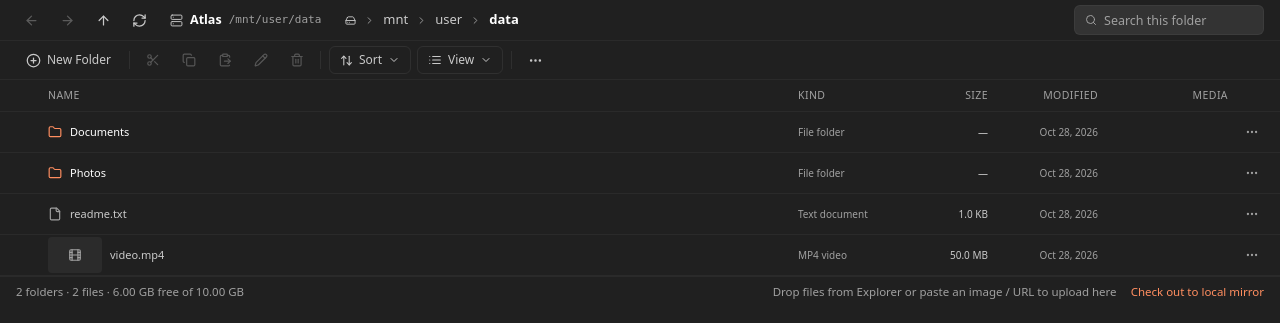
Scenario: Select none and Invert selection enable unconditionally › are both enabled with nothing selected
This screenshot has width=1280, height=323.
Expected: the text "readme.txt" is shown, 70,206 -> 127,222
Click the button named "More options" at point(535, 60), box 520,45 -> 550,75
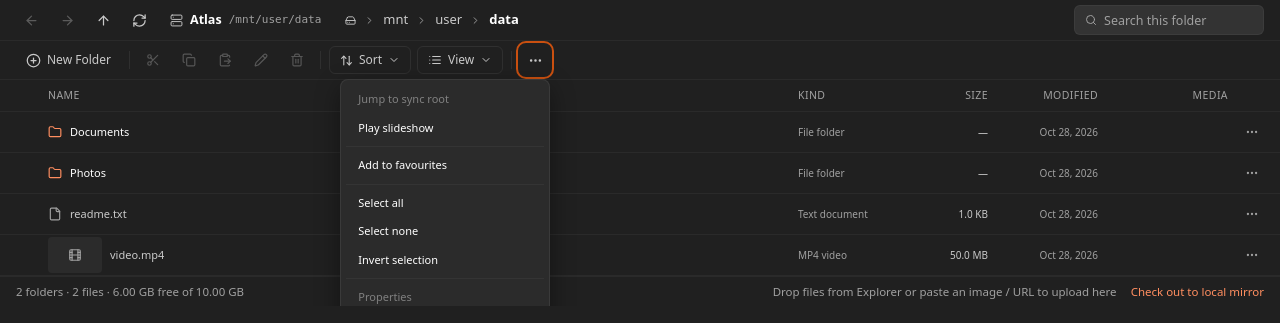
Expected: the menu item "Select none" is enabled, 346,217 -> 544,246
Expected: the menu item "Invert selection" is enabled, 346,246 -> 544,274
